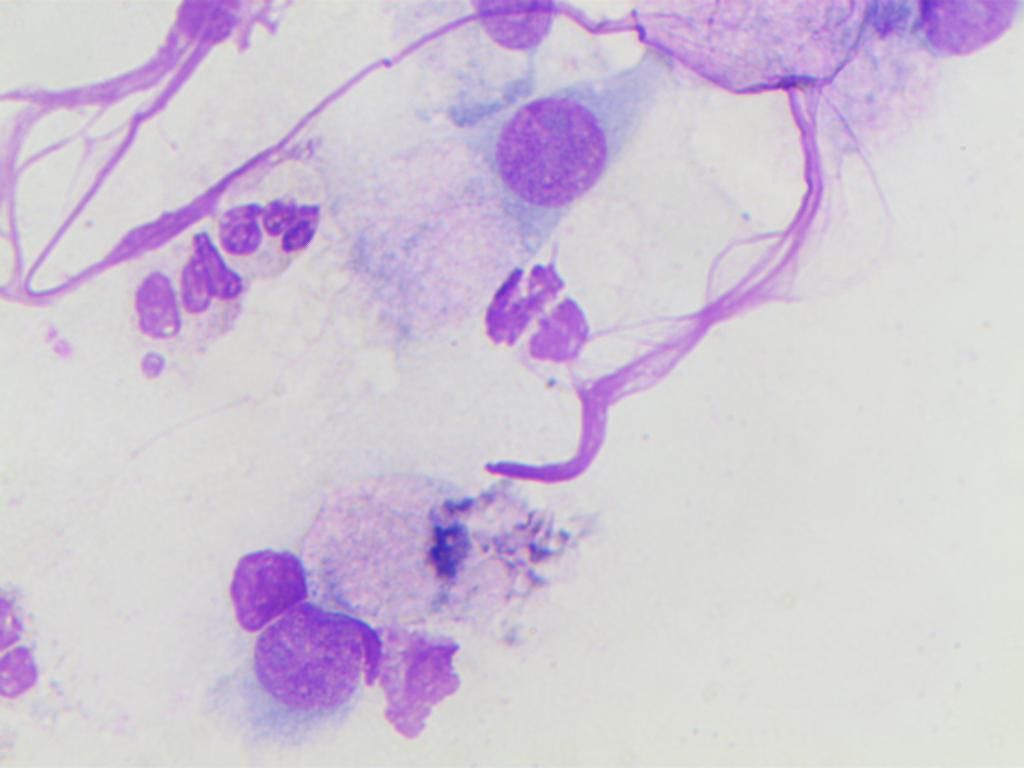epithelial: (469, 48, 678, 243), (246, 599, 477, 748), (214, 534, 310, 629), (464, 2, 566, 53)
neutrophil: (118, 232, 253, 376), (215, 154, 330, 288), (476, 262, 595, 364), (0, 580, 42, 706)
